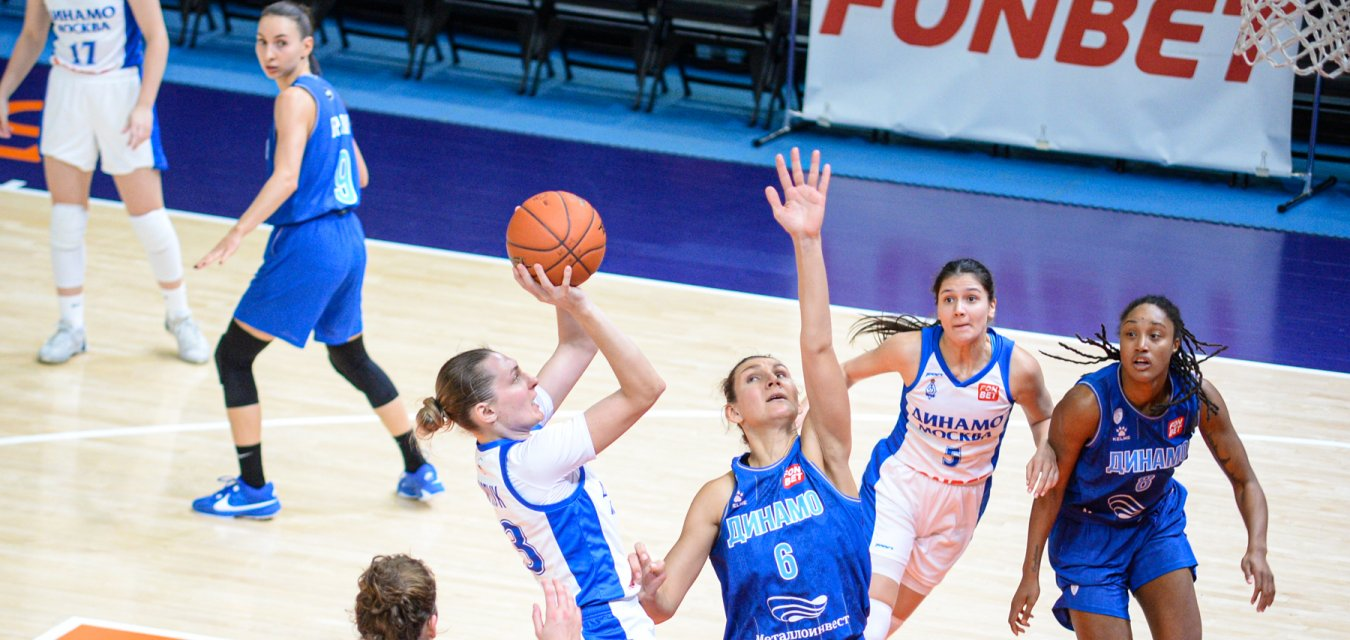ball: (506, 188, 607, 287)
ignore: (353, 551, 441, 637), (532, 577, 587, 639)
player: (769, 149, 1057, 638), (188, 0, 445, 525), (630, 144, 885, 637), (1008, 291, 1277, 638), (433, 254, 668, 638), (0, 0, 210, 367)
